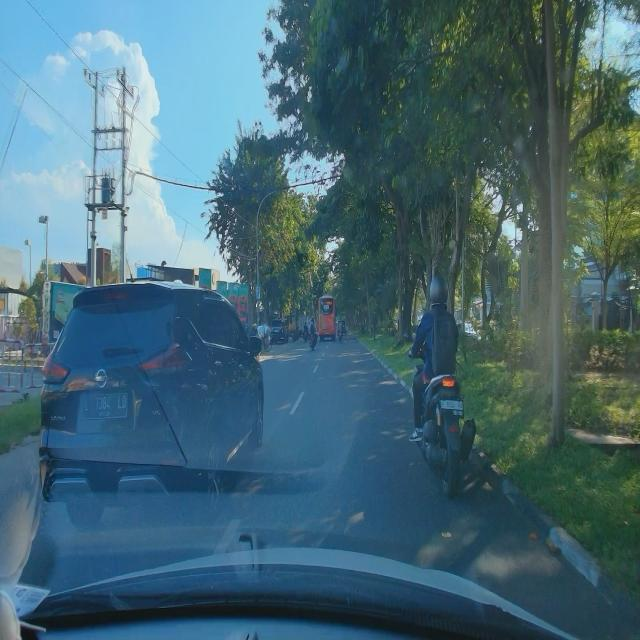bus: (318, 295, 337, 343)
car: (38, 279, 265, 529)
license-plate: (83, 392, 128, 420)
